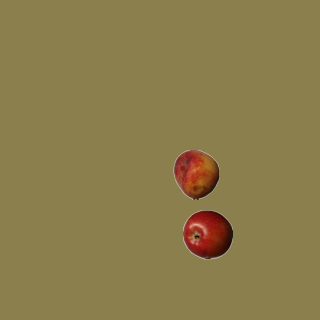Apple Braeburn: (182, 209, 232, 259)
Peach: (171, 149, 221, 199)
